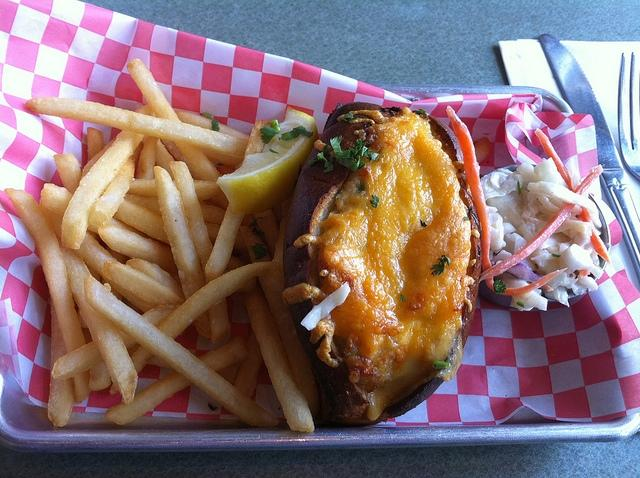carrot: (447, 106, 568, 296), (478, 164, 604, 284), (534, 128, 610, 264), (578, 268, 590, 280), (538, 285, 554, 292)
lemon: (215, 106, 318, 214)
potato: (281, 101, 483, 427), (115, 201, 169, 245)
